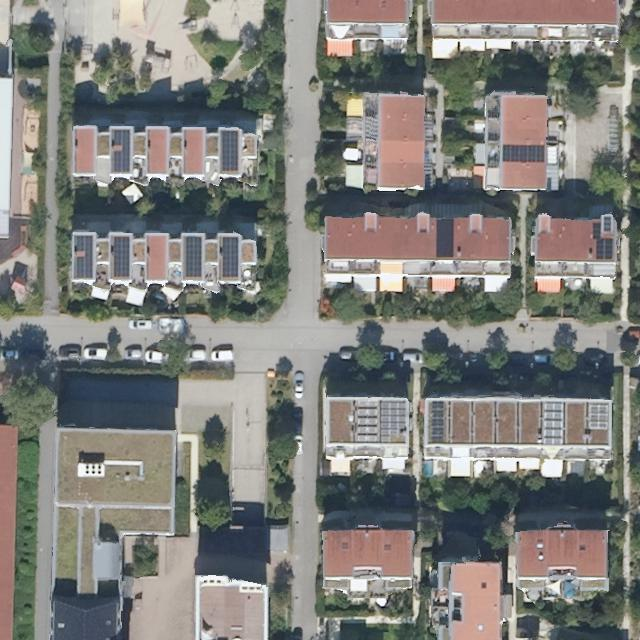PV: (379, 398, 409, 442), (354, 397, 381, 444), (540, 399, 566, 446), (73, 232, 96, 281), (110, 127, 132, 175), (219, 127, 240, 175), (499, 143, 547, 164), (428, 399, 448, 443), (110, 236, 131, 277), (591, 221, 613, 258), (184, 236, 203, 277), (588, 401, 611, 432), (222, 236, 239, 277)
